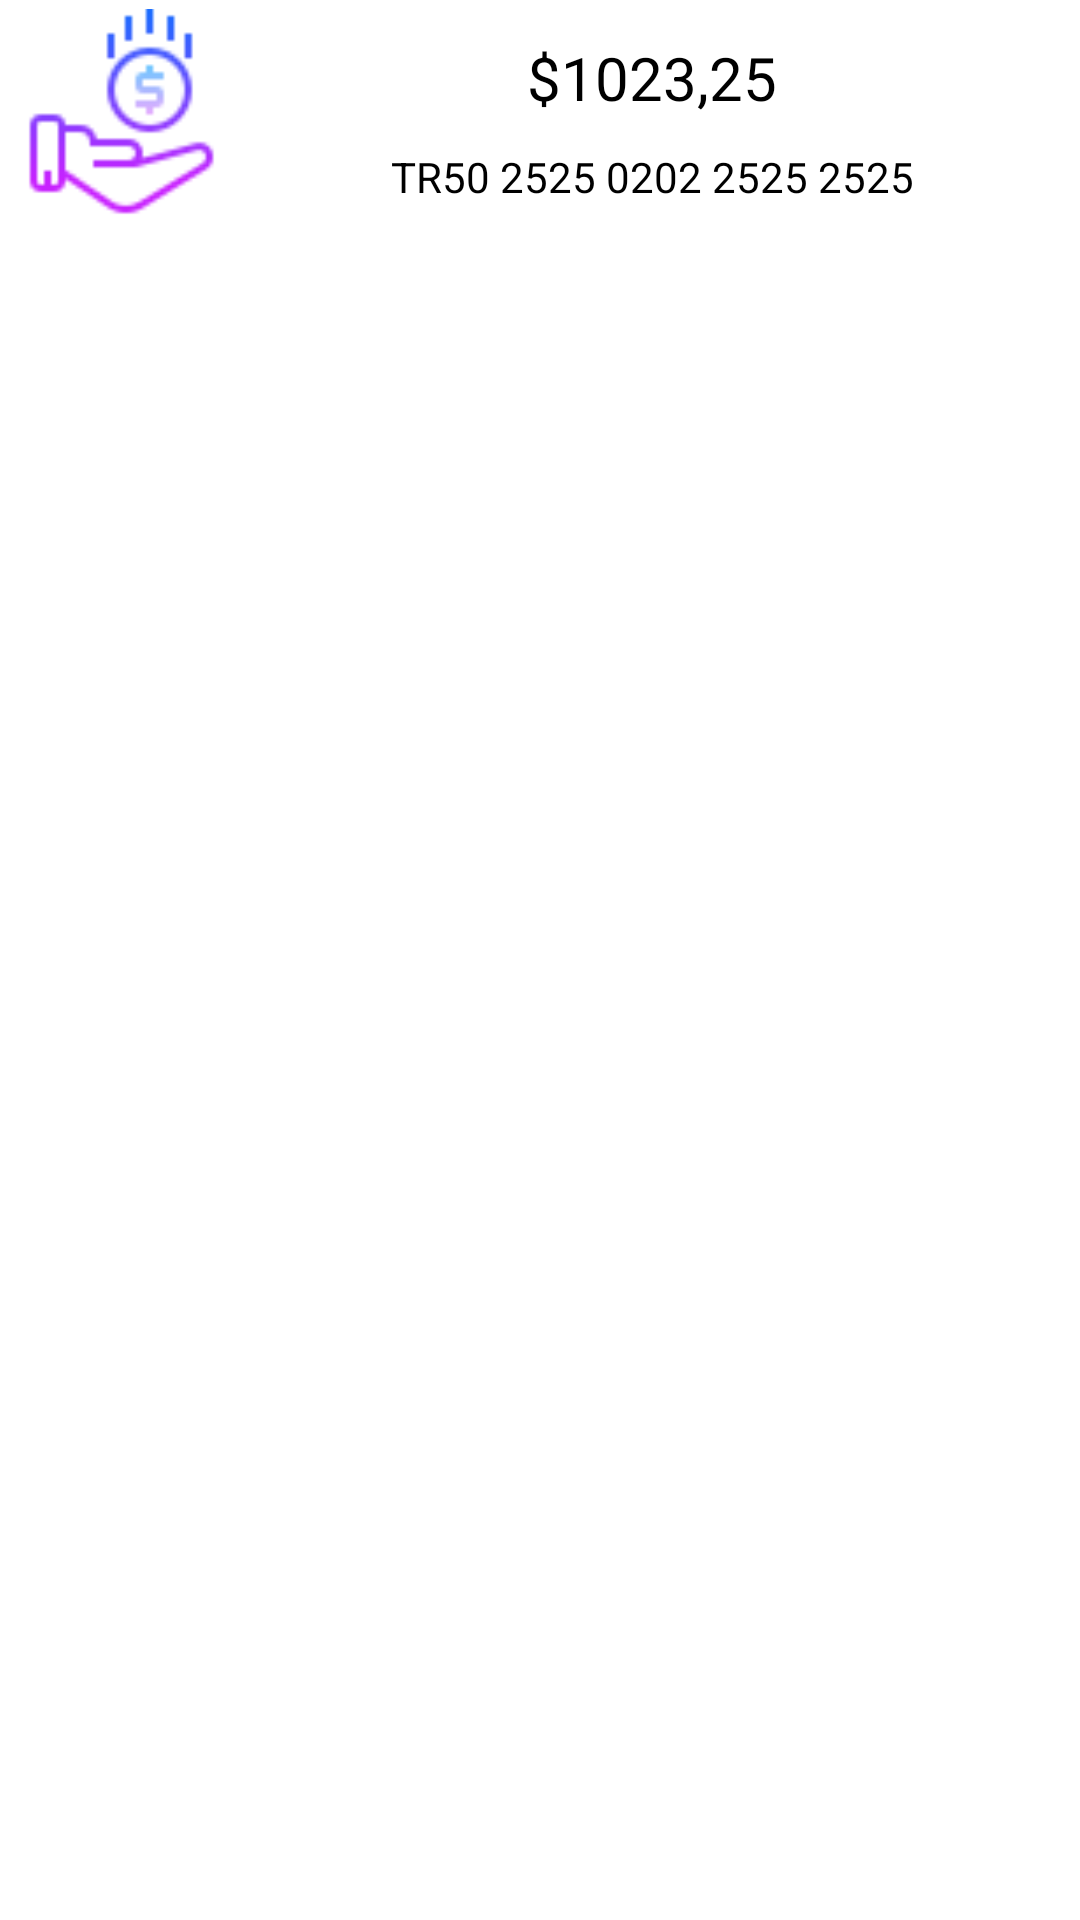

Screen size 1080×1920. Icon name, then its center in pixels as (x,y):
save money: (121,111)
